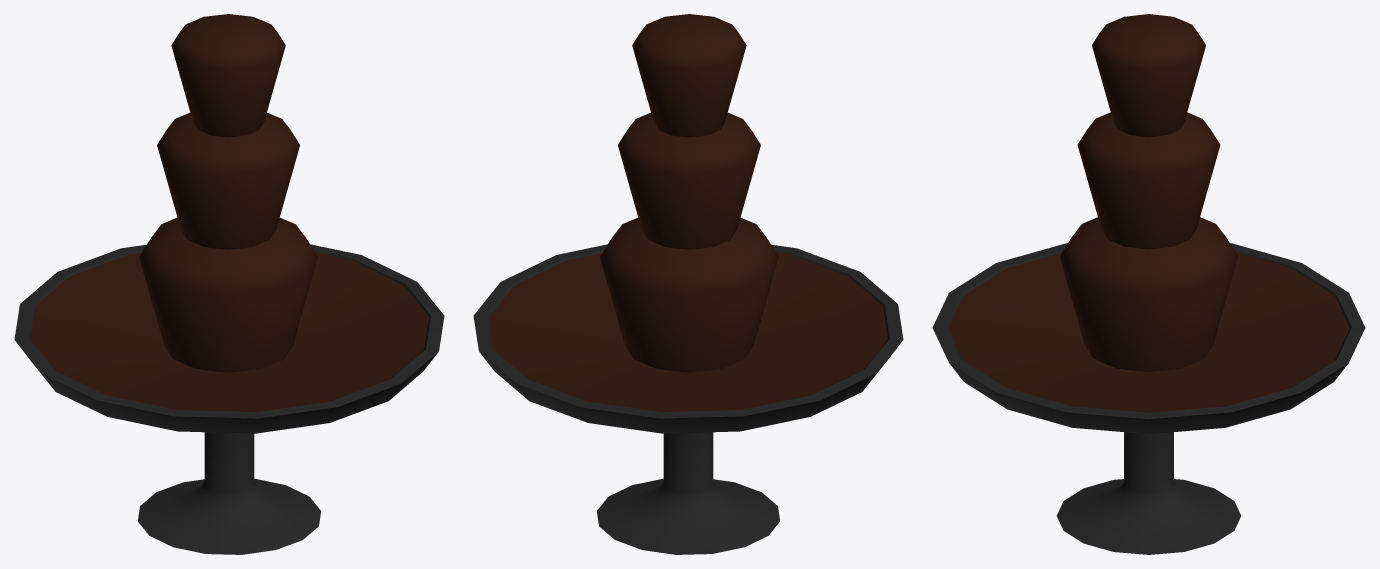
Rendered from 3D_Fountain_Chocolate.FBX.
The picture shows the model from 3 angles, left to right: view 1: azimuth 30°, elevation 25°; view 2: azimuth 150°, elevation 25°; view 3: azimuth 270°, elevation 25°; orthographic projection.
Parts seen in each view (by area): view 1: 3D_Fountain_Chocolate; view 2: 3D_Fountain_Chocolate; view 3: 3D_Fountain_Chocolate.
Part boxes in pixels (x1,y1,x2,y2): 3D_Fountain_Chocolate: (14, 14, 444, 554); 3D_Fountain_Chocolate: (473, 14, 903, 554); 3D_Fountain_Chocolate: (932, 14, 1365, 554).
Bounding box in the file's own units: 247 × 309 × 247.
